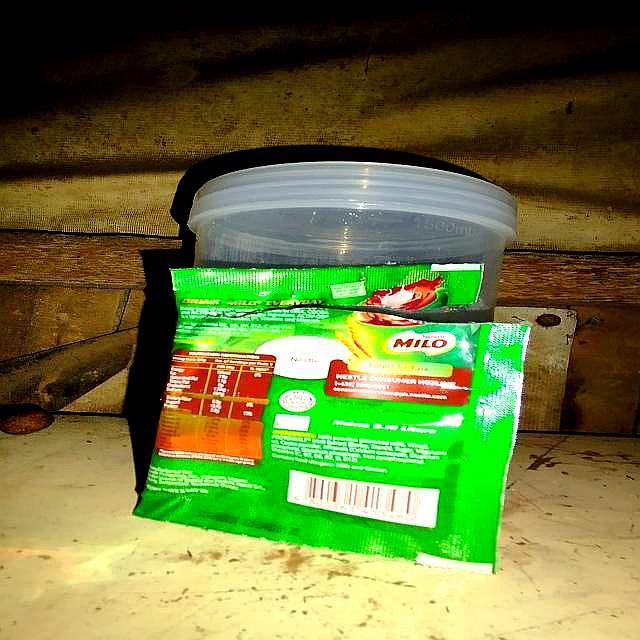Non-biodegradable: (137, 265, 535, 583)
